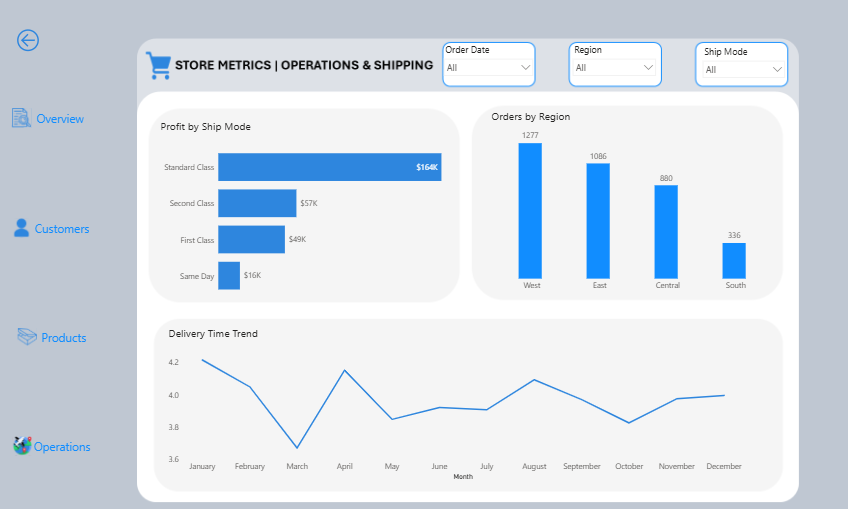

Layout of this report page (visuals, bound fields, positions):
{"tool":"powerbi","page":{"name":"Operations & Shipping","canvas":[1920,1080],"ordinal":3},"visuals":[{"type":"slicer","fields":{"Values":["Orders.Order Date.Variation.Date Hierarchy.Year","Orders.Order Date.Variation.Date Hierarchy.Month"]},"box":[959,84.2,205.2,114.5],"z":0},{"type":"slicer","fields":{"Values":["States.Region"]},"box":[1226.9,84.2,192.2,84.2],"z":1000},{"type":"lineChart","title":"Delivery Time Trend","fields":{"Category":["Orders.Order Date.Variation.Date Hierarchy.Year","Orders.Order Date.Variation.Date Hierarchy.Month"],"Y":["Avg(Orders.Delivery Days)"]},"box":[393.1,676.1,1270.1,326.2],"z":3000},{"type":"clusteredBarChart","title":" Profit by Ship Mode","fields":{"Category":["Orders.Ship Mode"],"Y":["Dax Measures.Total Profit"]},"box":[378,246.2,643.7,391],"z":4000},{"type":"actionButton","box":[66.6,199.8,181.9,90.9],"z":6000},{"type":"actionButton","box":[66.6,655.9,181.9,85.9],"z":7000},{"type":"actionButton","box":[67.2,881,180.6,86.6],"z":8000},{"type":"actionButton","box":[66,430,183.1,86.6],"z":9000},{"type":"clusteredColumnChart","title":"Orders by Region ","fields":{"Y":["Dax Measures.Total Order"],"Category":["States.Region"]},"box":[1062.7,226.8,600.5,386.6],"z":10000},{"type":"slicer","fields":{"Values":["Orders.Ship Mode"]},"box":[1496.9,88.6,190.1,79.9],"z":11000}]}

Visuals, with their boxes on the page's 1920x1080 design canvas (x1, y1, x2, y2). These are canvas units, not pixel positions in the 848x509 screenshot, which may show the page scaled, cropped or inside an application window:
slicer - Orders.Order Date.Variation.Date Hierarchy.Year x Orders.Order Date.Variation.Date Hierarchy.Month: <bbox>959, 84, 1164, 199</bbox>
slicer - States.Region: <bbox>1227, 84, 1419, 168</bbox>
"Delivery Time Trend" lineChart: <bbox>393, 676, 1663, 1002</bbox>
" Profit by Ship Mode" clusteredBarChart: <bbox>378, 246, 1022, 637</bbox>
actionButton: <bbox>67, 200, 248, 291</bbox>
actionButton: <bbox>67, 656, 248, 742</bbox>
actionButton: <bbox>67, 881, 248, 968</bbox>
actionButton: <bbox>66, 430, 249, 517</bbox>
"Orders by Region " clusteredColumnChart: <bbox>1063, 227, 1663, 613</bbox>
slicer - Orders.Ship Mode: <bbox>1497, 89, 1687, 168</bbox>
